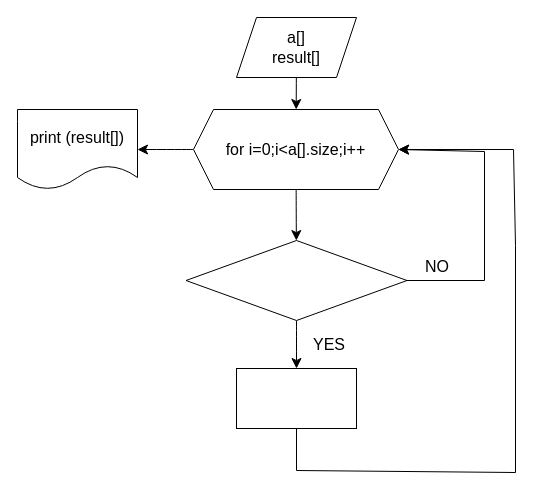
The diagram is 543 pixels wide and 500 high, and some of its shapes have lost their labels. The shapes that lost their labels are listed below. From the top down, each one's centre as x and y in pixels, then its label:
At (x=296, y=280): "if array[i].length<=3".
At (x=296, y=398): "result[].add(a[i])".
